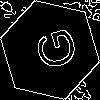G: (25, 25, 80, 76)
